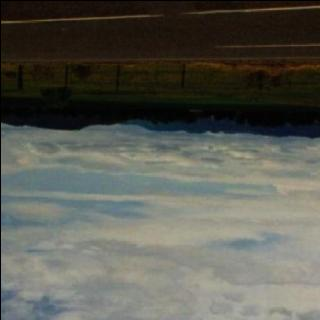Stratocumulus: (0, 138, 320, 320)
